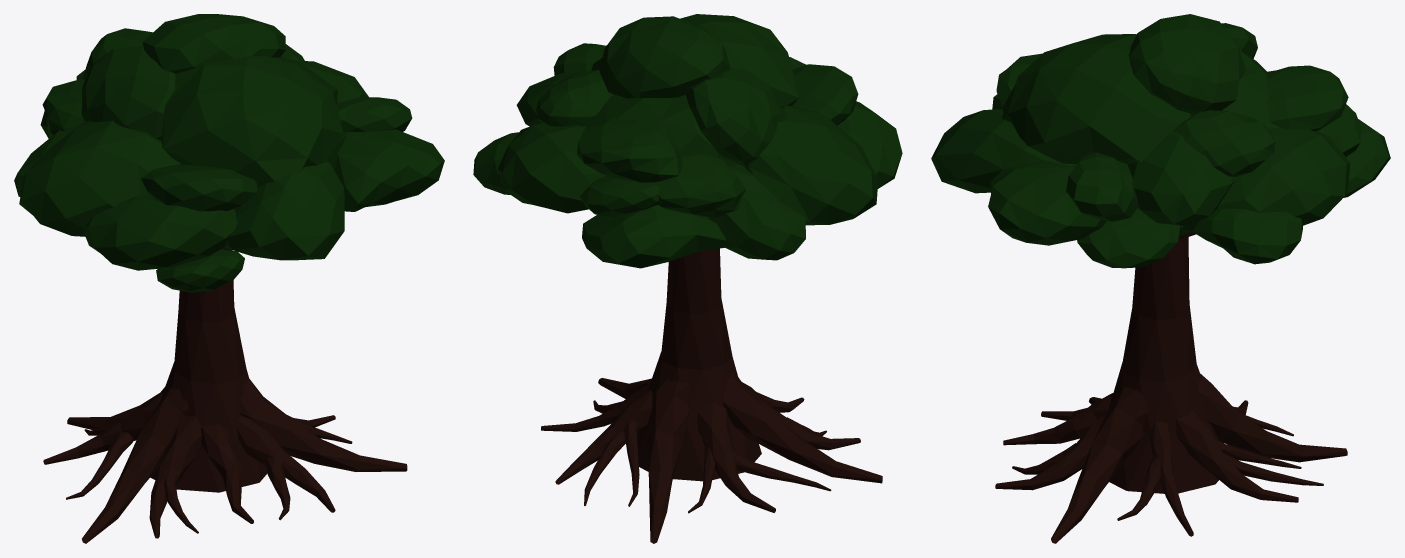
Rendered from Center Tree.fbx.
3 views of the same model, side by side, from view 1: azimuth 30°, elevation 25°; view 2: azimuth 150°, elevation 25°; view 3: azimuth 270°, elevation 25° (orthographic). The views are drawn at different scales.
Visible parts, largest first — view 1: Roundcube.004; view 2: Roundcube.004; view 3: Roundcube.004.
Boxes of the visible parts, left/top/right/bottom form: Roundcube.004: left=14, top=14, right=444, bottom=543; Roundcube.004: left=473, top=14, right=902, bottom=543; Roundcube.004: left=931, top=14, right=1390, bottom=543.
Size of the model in its own units: 1724 by 2066 by 1859.
